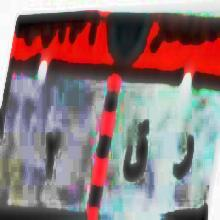2: (39, 119, 64, 190)
qaaf: (121, 110, 151, 192)
raa: (176, 120, 194, 192)
